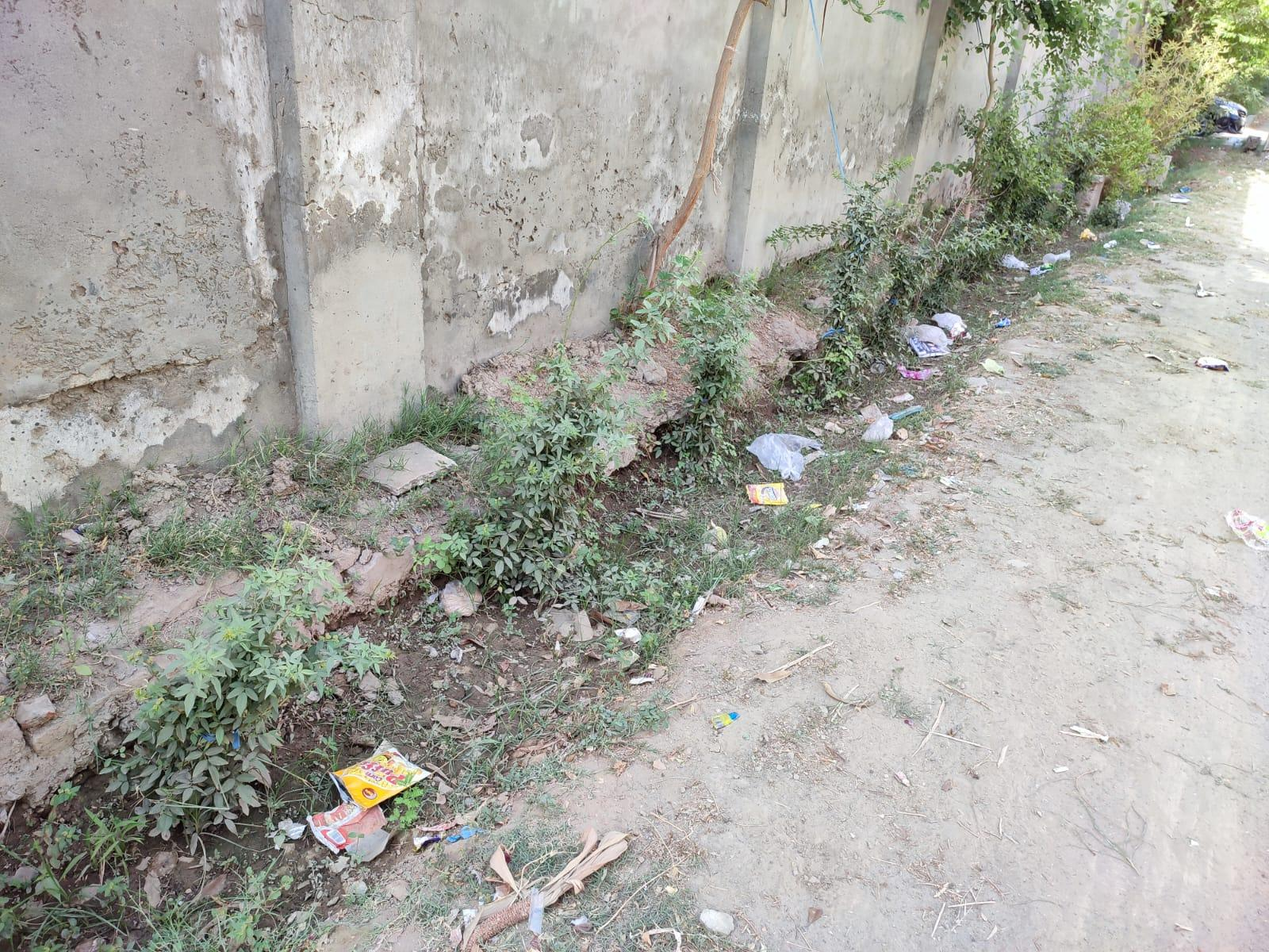garbage: (671, 336, 951, 499), (282, 742, 428, 870)
